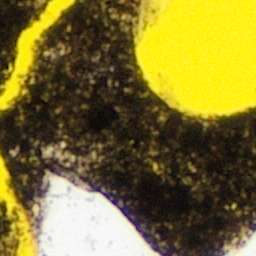air_pores: (133, 0, 255, 119)
cement_matrix: (0, 0, 255, 255), (0, 0, 46, 89), (0, 204, 12, 255), (45, 147, 68, 161)
cracks: (0, 0, 75, 112), (0, 153, 38, 255)
gravel_crushed_stones: (36, 178, 157, 255), (226, 233, 255, 255), (46, 148, 67, 160)
